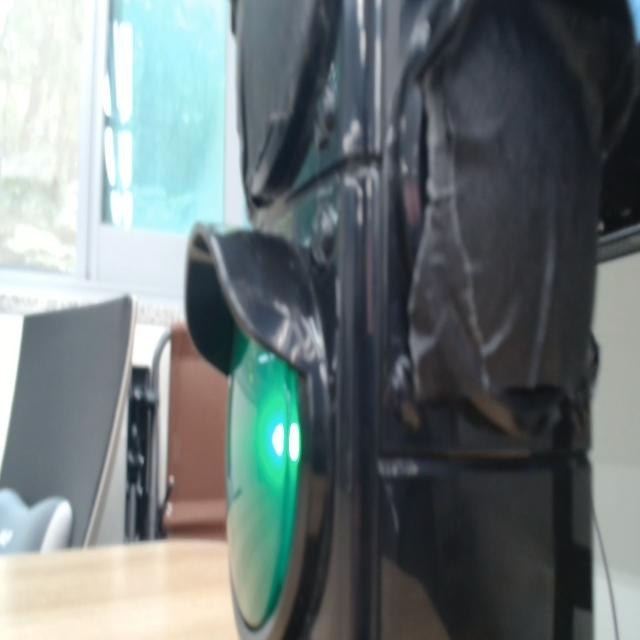green_light: (227, 333, 301, 628)
